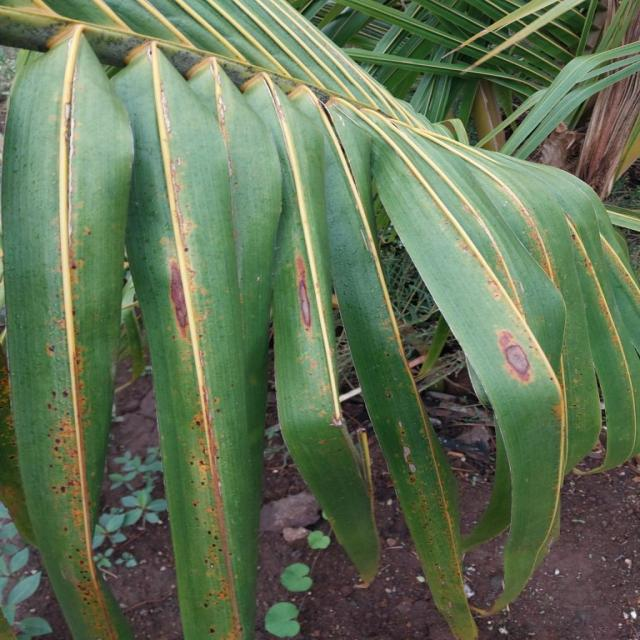gray leaf spot: (144, 239, 234, 387), (286, 245, 332, 360), (496, 326, 549, 414)
